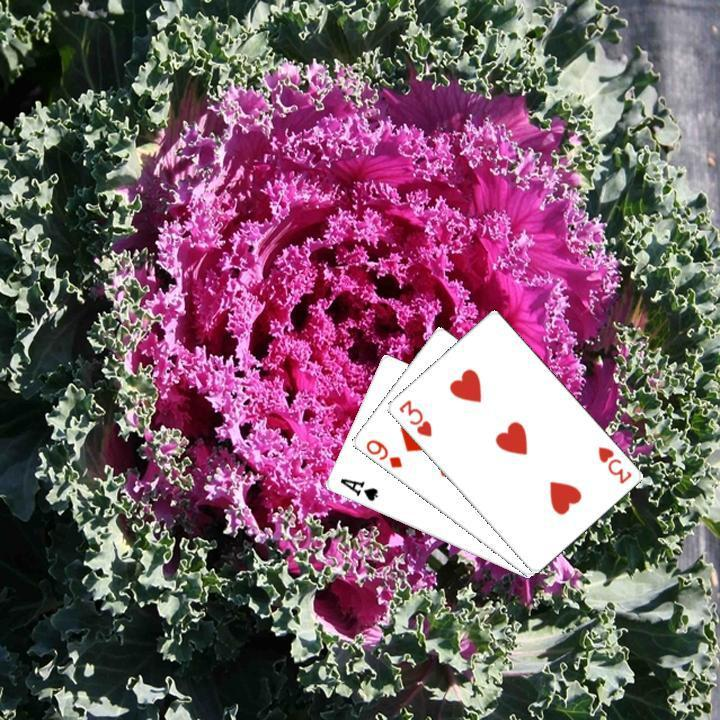3: (394, 395, 434, 439), (593, 442, 633, 486)
9: (361, 435, 404, 470)
A: (335, 474, 379, 503)
